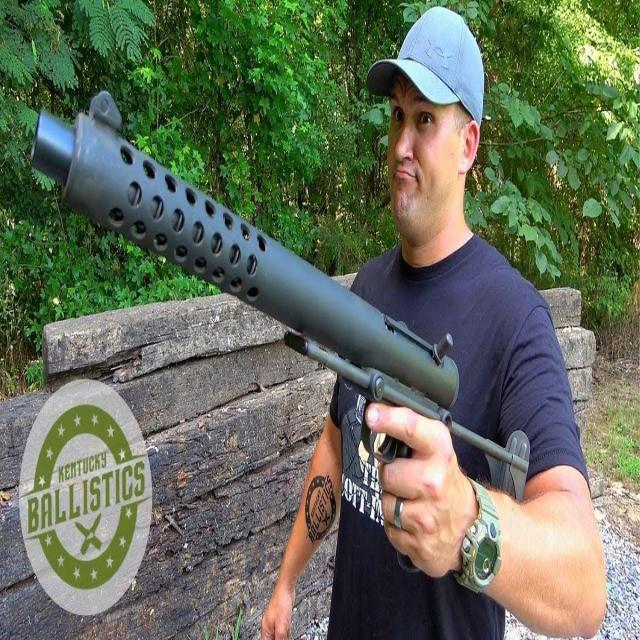weapon: (27, 61, 540, 566)
